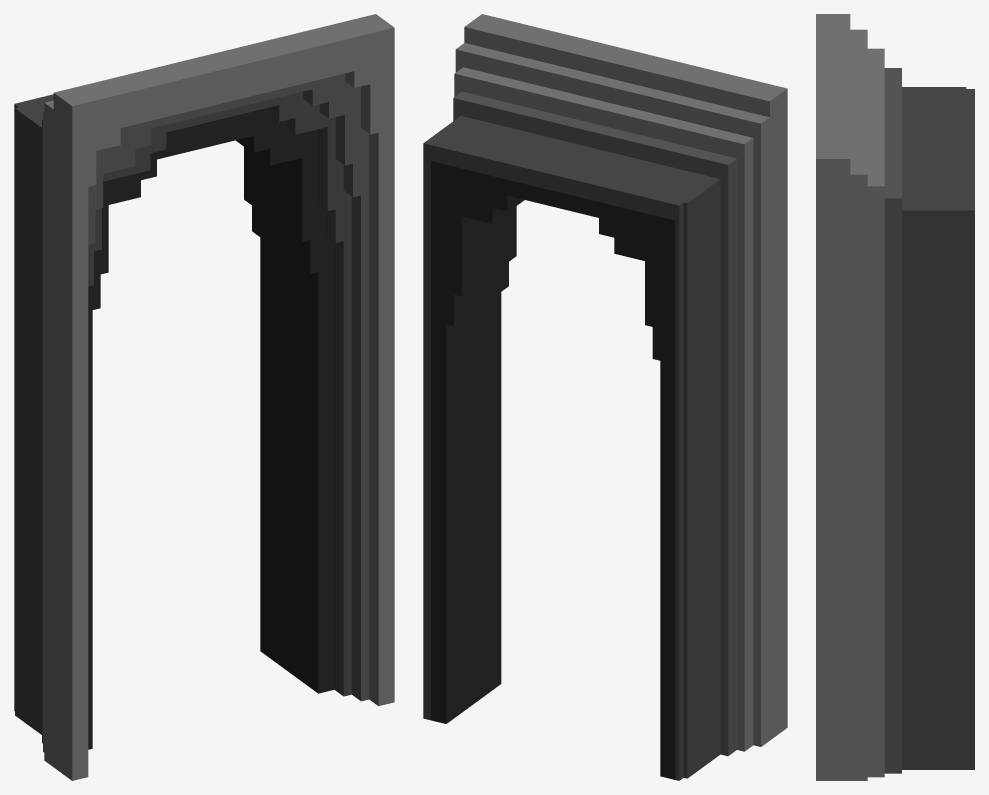
Rendered from untitled.vox.obj.
The picture shows the model from 3 angles, left to right: view 1: azimuth 30°, elevation 25°; view 2: azimuth 150°, elevation 25°; view 3: azimuth 270°, elevation 25°; orthographic projection. The views are drawn at different scales.
Size of the model in its own units: 8 by 16 by 3.7.
Materials: 1 (1 with a texture image).
